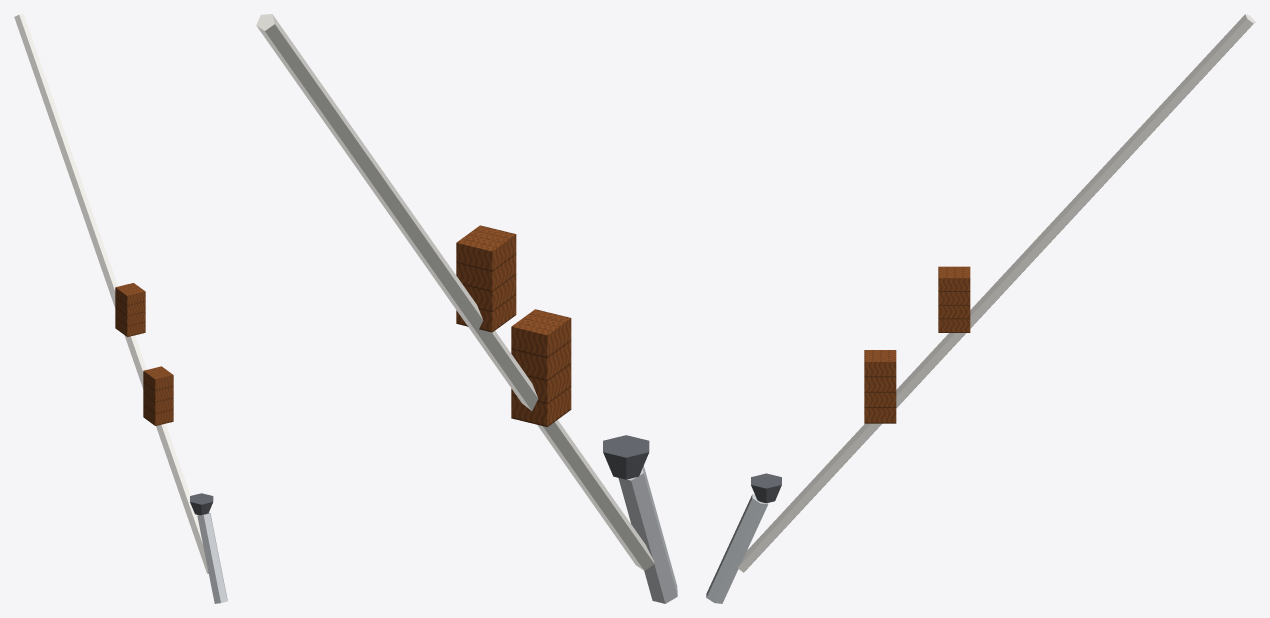
File: travelling-circus-and-big-top-tent-guy-line-5b0a8b9f__36231.glb
The picture shows the model from 3 angles, left to right: view 1: azimuth 30°, elevation 25°; view 2: azimuth 150°, elevation 25°; view 3: azimuth 270°, elevation 25°; orthographic projection. The views are drawn at different scales.
Parts seen in each view (by area): view 1: tent-guy-line-canvas, tent-guy-line-timber, tent-guy-line-steel, tent-guy-line-charcoal; view 2: tent-guy-line-canvas, tent-guy-line-timber, tent-guy-line-steel, tent-guy-line-charcoal; view 3: tent-guy-line-canvas, tent-guy-line-timber, tent-guy-line-steel, tent-guy-line-charcoal.
Boxes of the visible parts, <box> form: tent-guy-line-canvas: <box>14,14,208,573</box>; tent-guy-line-timber: <box>115,283,173,425</box>; tent-guy-line-steel: <box>197,513,227,603</box>; tent-guy-line-charcoal: <box>190,493,213,515</box>; tent-guy-line-canvas: <box>256,14,654,570</box>; tent-guy-line-timber: <box>456,225,571,426</box>; tent-guy-line-steel: <box>618,466,677,603</box>; tent-guy-line-charcoal: <box>603,435,649,479</box>; tent-guy-line-canvas: <box>738,14,1255,572</box>; tent-guy-line-timber: <box>864,266,970,423</box>; tent-guy-line-steel: <box>706,494,768,603</box>; tent-guy-line-charcoal: <box>751,473,781,503</box>.
Size of the model in its own units: 0.18 by 3.24 by 2.75.
4 materials, 1 textured.
